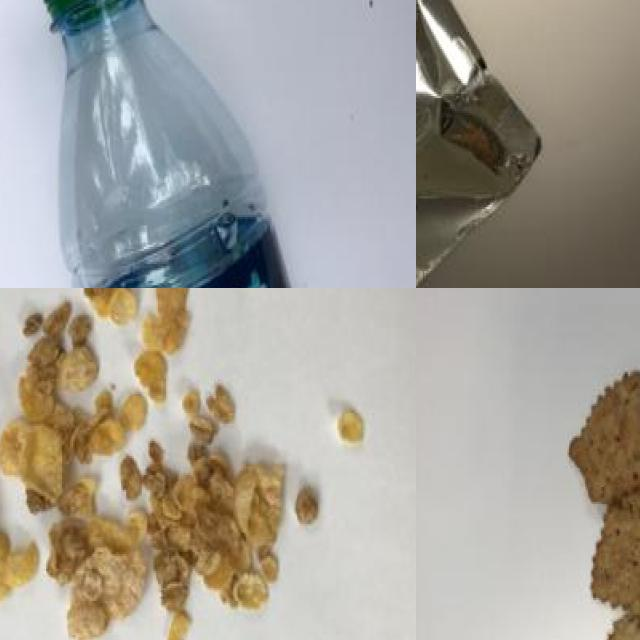compost: (0, 288, 342, 640), (559, 355, 640, 640)
plastic: (22, 0, 349, 288)
trash: (416, 0, 565, 288)
